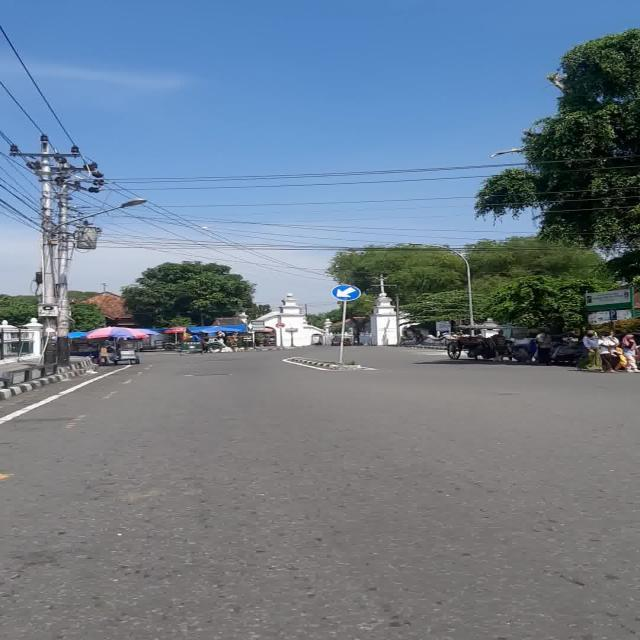Lajur Kiri: (331, 284, 361, 302)
